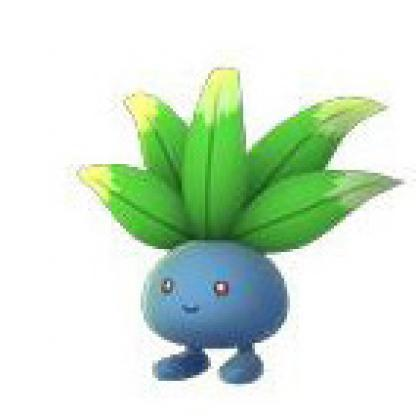Oddish: (77, 48, 414, 391)
